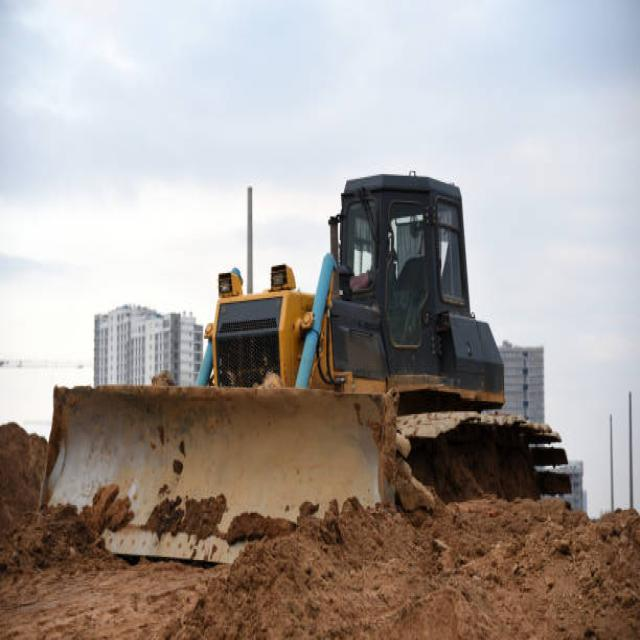buldozerpayloadergrader: (37, 169, 574, 556)
